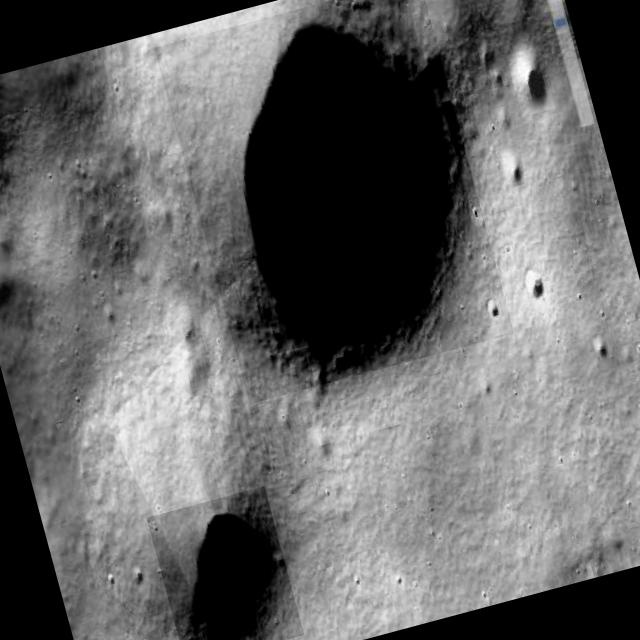crater: (155, 0, 515, 404), (147, 486, 305, 640), (507, 46, 556, 116), (521, 268, 549, 300)
